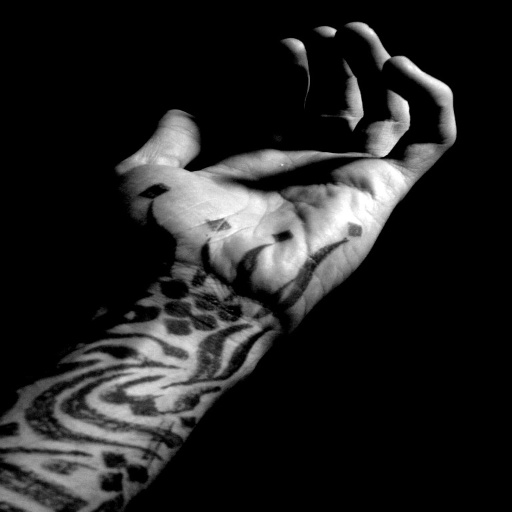hand: (114, 21, 456, 331)
